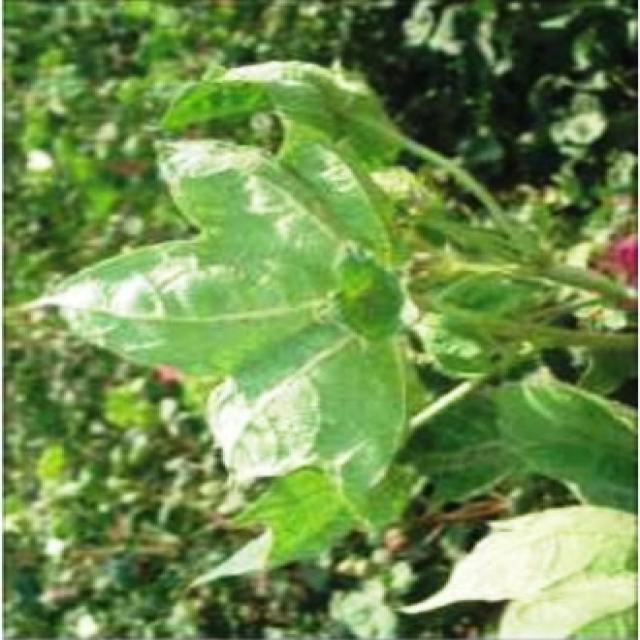Leaf Curl Virus: (146, 82, 418, 534)
